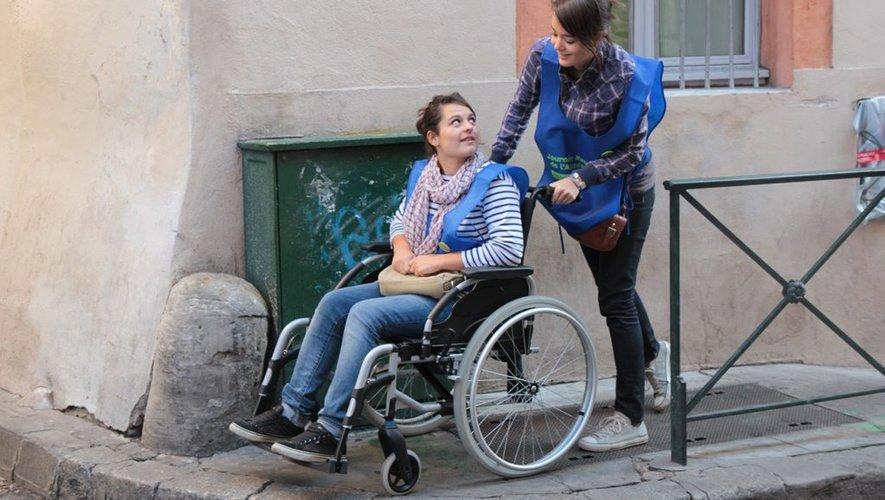push_wheelchair: (471, 1, 670, 454)
wheelchair: (230, 93, 597, 496)
